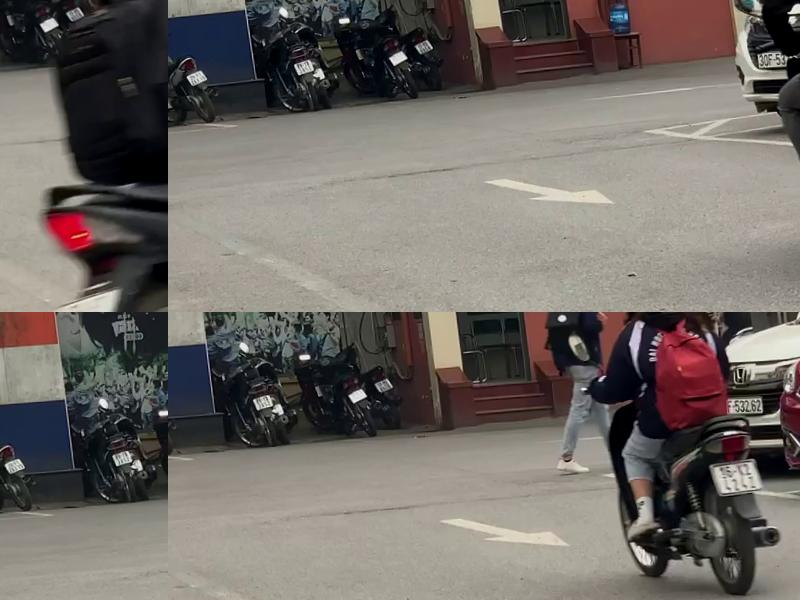license_plate: (696, 461, 757, 506), (29, 289, 116, 312), (243, 392, 269, 414), (29, 19, 55, 36), (105, 451, 129, 469), (58, 8, 81, 26), (180, 70, 202, 88), (288, 60, 310, 78), (0, 457, 20, 476), (340, 390, 363, 406), (384, 52, 404, 70), (410, 42, 429, 58)
motorcyclist: (570, 312, 776, 600), (0, 0, 168, 312), (744, 0, 800, 285)
